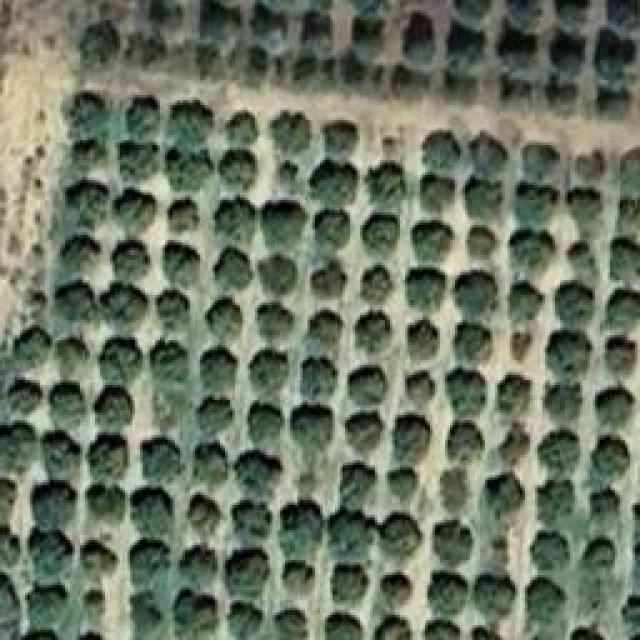Tree: (168, 590, 223, 640), (425, 573, 472, 629), (525, 573, 571, 628), (326, 565, 384, 608), (382, 513, 427, 568), (68, 90, 115, 142), (457, 273, 504, 325), (42, 434, 86, 488), (165, 148, 213, 197), (208, 200, 259, 246), (95, 338, 144, 385), (88, 385, 137, 432), (397, 10, 443, 60), (515, 180, 561, 229), (310, 166, 361, 210), (425, 128, 466, 182), (255, 200, 304, 245), (463, 178, 503, 233), (223, 150, 266, 201), (88, 430, 135, 476), (540, 72, 586, 119), (367, 165, 412, 213), (280, 503, 321, 555), (120, 140, 162, 190), (172, 95, 216, 142), (590, 82, 636, 126), (225, 548, 267, 596), (77, 17, 119, 65), (238, 458, 287, 499), (229, 34, 270, 83), (120, 592, 164, 637), (198, 0, 243, 44), (246, 0, 291, 44), (450, 325, 496, 368), (28, 537, 71, 583), (513, 232, 555, 279), (468, 135, 509, 183), (475, 575, 519, 619), (273, 115, 320, 156), (448, 373, 487, 422), (340, 463, 379, 512), (0, 423, 38, 473), (132, 493, 176, 536), (410, 223, 456, 264), (593, 437, 634, 483), (435, 518, 475, 565), (200, 298, 247, 338), (405, 270, 451, 310), (42, 390, 88, 430), (198, 353, 246, 391), (518, 140, 560, 183), (535, 480, 577, 523), (8, 324, 51, 366), (123, 28, 166, 70), (191, 44, 233, 87), (548, 340, 592, 381), (30, 488, 71, 532), (593, 32, 634, 76), (344, 12, 388, 53), (590, 390, 635, 430), (58, 235, 98, 280), (83, 485, 123, 530), (325, 115, 371, 154), (405, 323, 443, 370), (48, 330, 90, 372), (543, 378, 583, 422), (250, 348, 292, 389), (275, 560, 316, 602), (390, 63, 431, 105), (485, 475, 528, 515), (528, 533, 571, 573), (340, 415, 380, 458), (540, 433, 581, 474), (25, 595, 66, 636), (108, 285, 148, 327), (230, 598, 270, 640), (497, 71, 537, 113), (163, 245, 202, 288), (125, 92, 163, 136), (498, 378, 537, 420), (439, 70, 482, 108), (315, 608, 366, 640), (220, 110, 265, 146), (555, 285, 595, 325), (600, 340, 639, 381), (143, 347, 190, 381), (115, 195, 157, 233), (435, 470, 472, 513), (248, 398, 285, 441), (82, 542, 116, 588), (213, 250, 253, 289), (130, 543, 168, 584), (258, 258, 300, 295), (330, 513, 367, 555), (293, 413, 336, 449), (443, 425, 482, 464), (113, 243, 151, 283), (68, 185, 105, 226), (313, 210, 350, 251), (568, 240, 605, 281), (585, 538, 622, 579), (148, 0, 191, 35), (165, 198, 204, 236), (395, 418, 433, 457), (350, 368, 389, 406), (565, 193, 602, 233), (585, 488, 621, 529), (228, 503, 269, 539), (308, 353, 342, 396), (310, 255, 348, 293), (297, 8, 335, 46), (190, 448, 230, 484), (448, 23, 489, 58), (570, 150, 609, 186), (415, 173, 451, 212), (58, 285, 97, 321), (500, 25, 536, 64), (360, 220, 395, 260), (273, 605, 313, 640), (310, 308, 343, 350), (358, 268, 395, 305), (143, 438, 178, 477), (185, 498, 220, 536), (195, 397, 235, 430), (180, 545, 213, 585), (75, 135, 106, 177), (548, 28, 584, 64), (260, 303, 298, 337), (270, 158, 303, 196), (507, 288, 541, 324), (358, 317, 395, 350), (610, 240, 639, 282), (460, 225, 498, 257), (400, 377, 438, 409), (612, 148, 640, 191), (385, 468, 420, 502), (607, 292, 640, 327), (5, 380, 39, 412), (380, 570, 413, 602), (158, 290, 188, 324), (375, 612, 410, 640), (78, 598, 105, 628), (510, 335, 538, 363), (500, 438, 528, 466), (425, 620, 462, 640), (622, 190, 640, 225)
